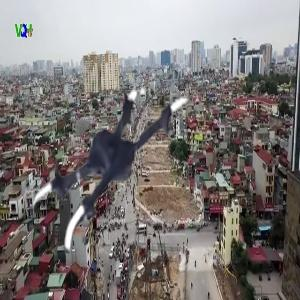drone: (26, 79, 219, 272)
